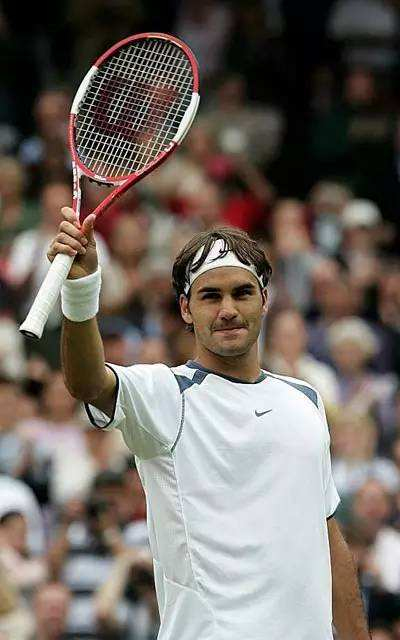no-phone: (39, 189, 105, 296)
